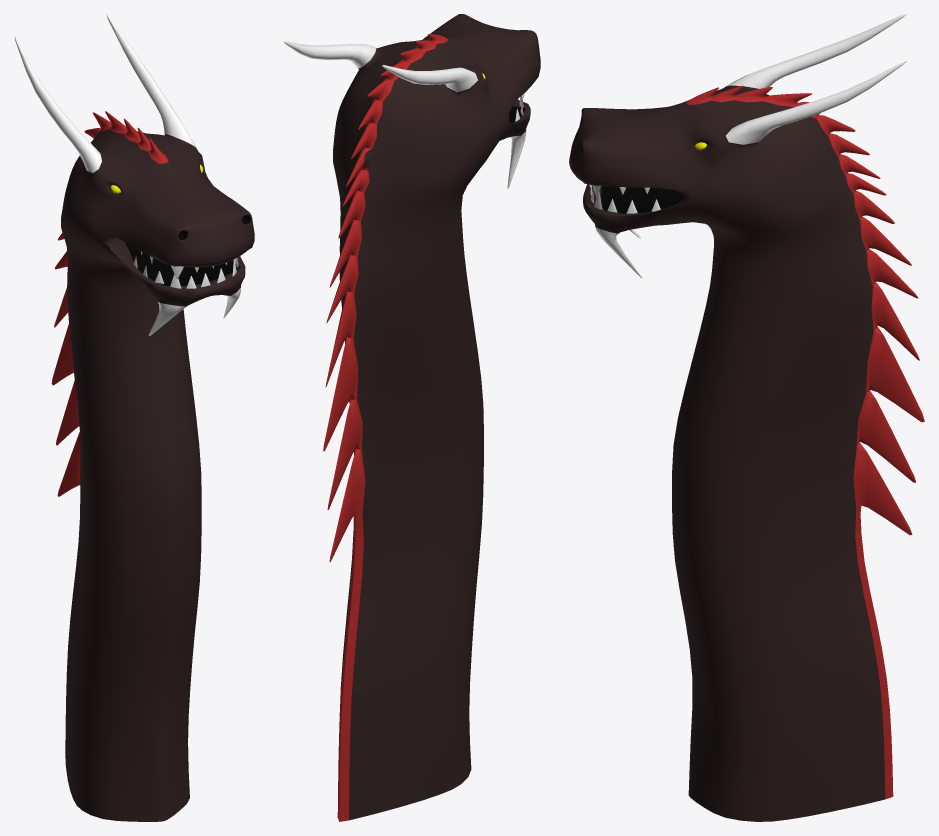
File: dragon.fbx
The picture shows the model from 3 angles, left to right: view 1: azimuth 30°, elevation 25°; view 2: azimuth 150°, elevation 25°; view 3: azimuth 270°, elevation 25°; orthographic projection. The views are drawn at different scales.
Parts seen in each view (by area): view 1: Tooth_16; view 2: Tooth_16; view 3: Tooth_16.
Part boxes in pixels (left/top/right/bottom): Tooth_16: left=14, top=14, right=254, bottom=821; Tooth_16: left=283, top=14, right=540, bottom=821; Tooth_16: left=569, top=14, right=924, bottom=821.
Bounding box in the file's own units: 327 × 1728 × 733.
